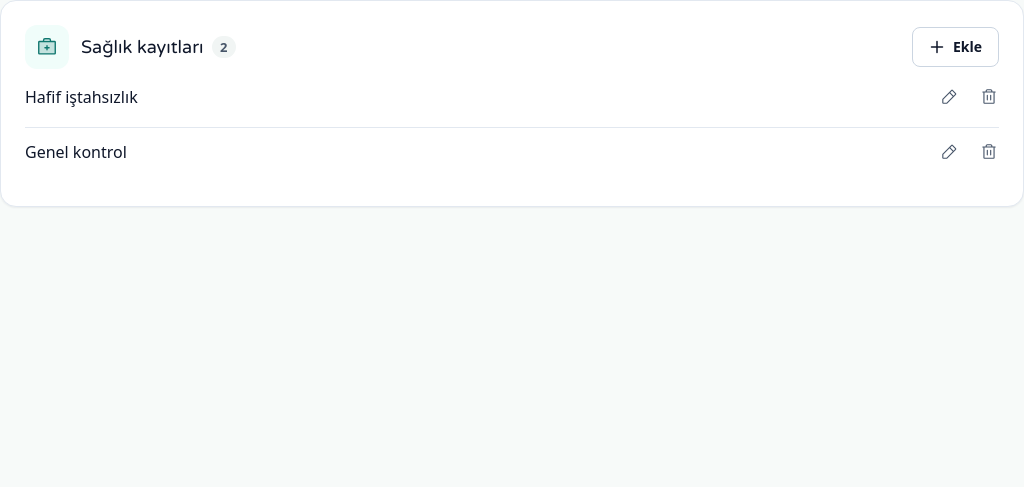
Test: RecordSection › keeps the form open and shows an error when saving fails
Click the button with aria-label "Sağlık kayıtları: yeni kayıt ekle": click(955, 47) [912,27,999,67]
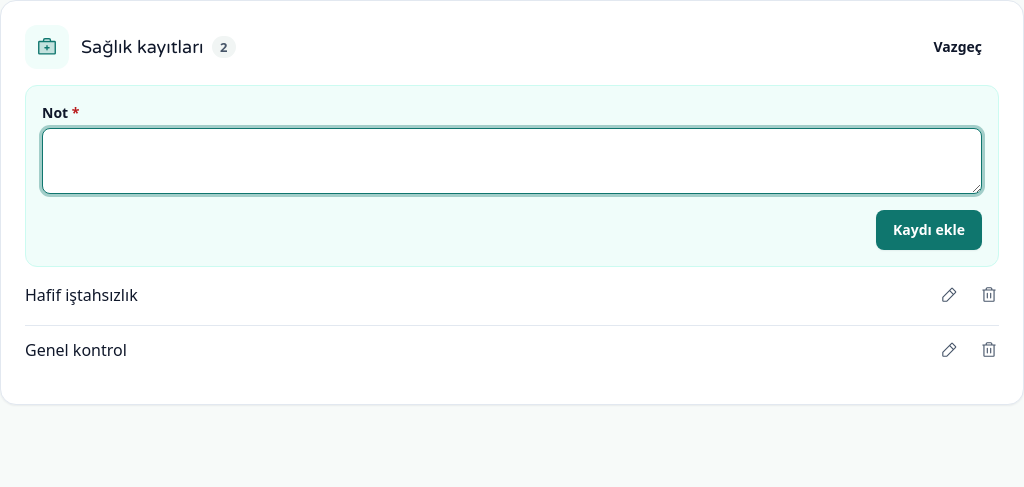
In the text box labelled "Not *": (512, 161) [42,128,982,194], type "Yeni not"
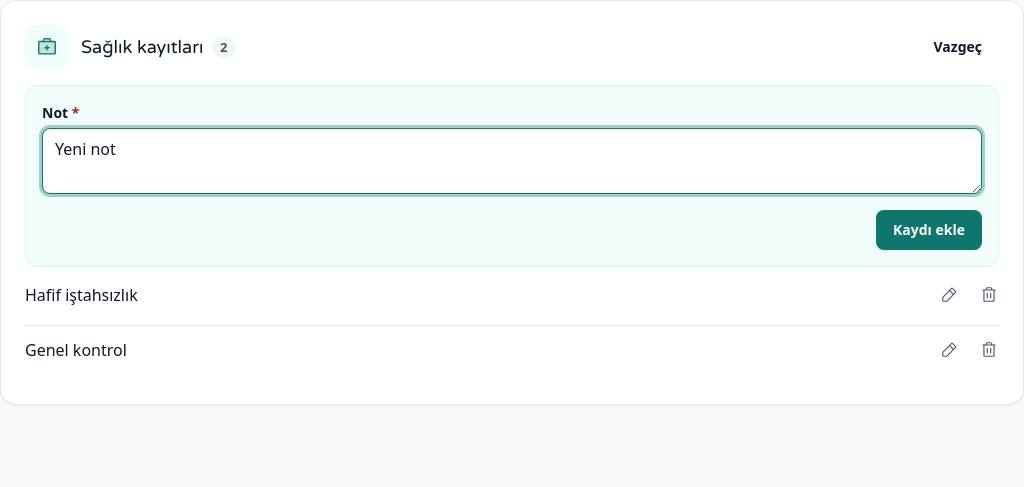
Click the button "Kaydı ekle": click(929, 230) [876,210,982,250]
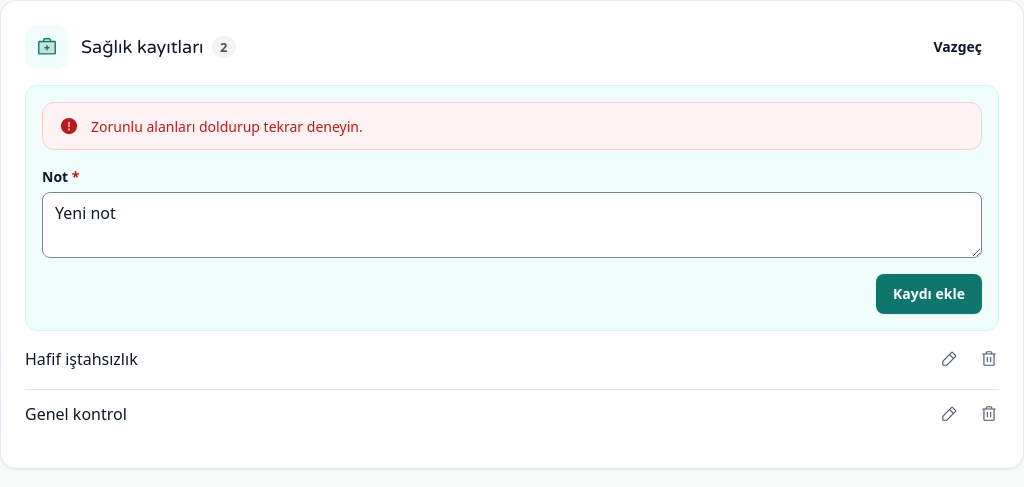
Expected: the message reads "Zorunlu alanları doldurup tekrar deneyin.", [91,117,363,136]
